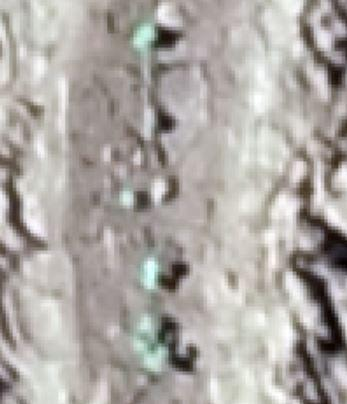cotton: (142, 258, 158, 288), (134, 25, 155, 46), (140, 339, 166, 355), (143, 317, 156, 337), (149, 352, 162, 371), (122, 191, 135, 208)
